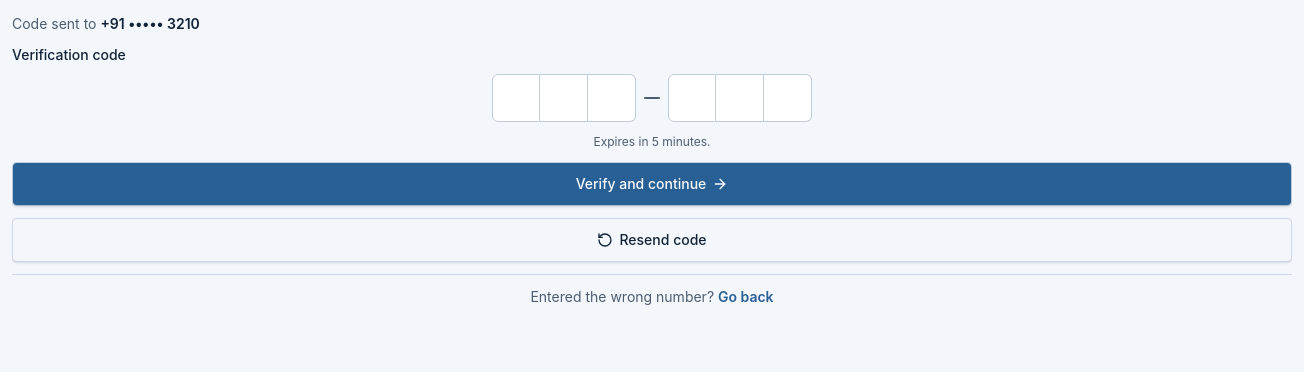
authentication workflow › reports OTP resend throttling without losing the form
Click the button "Resend code": (652, 240) [12, 218, 1292, 262]
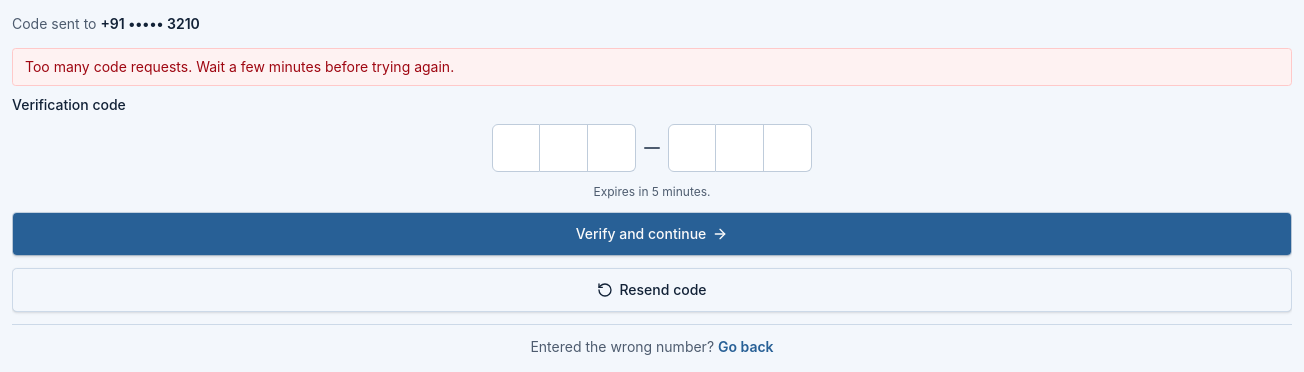
Expected: the field labelled "Verification code" is shown, [12, 120, 1292, 176]
Expected: the message shows "Too many code requests", [25, 58, 454, 75]
